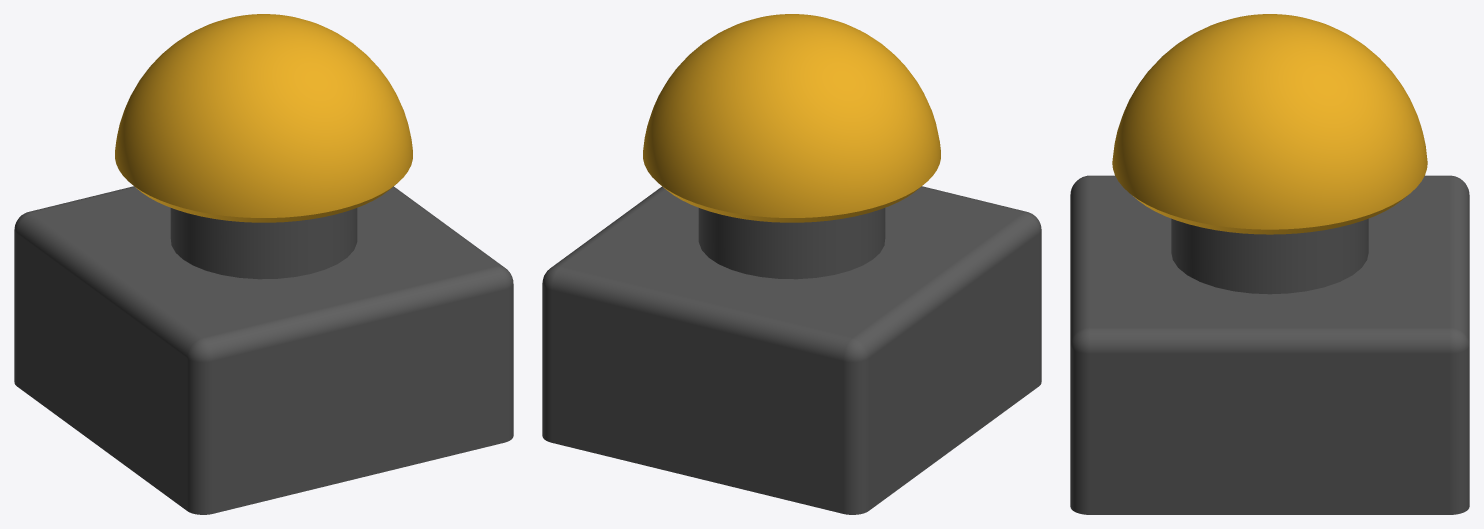
File: Button4Unreal.fbx
The picture shows the model from 3 angles, left to right: view 1: azimuth 30°, elevation 25°; view 2: azimuth 150°, elevation 25°; view 3: azimuth 270°, elevation 25°; orthographic projection. The views are drawn at different scales.
Visible parts, largest first — view 1: ButtonBase, Body1; view 2: ButtonBase, Body1; view 3: ButtonBase, Body1.
Boxes of the visible parts, box(x1,y1,x2,y2) form: ButtonBase: box(14, 186, 513, 514); Body1: box(115, 14, 412, 222); ButtonBase: box(542, 186, 1041, 514); Body1: box(643, 14, 940, 222); ButtonBase: box(1070, 175, 1469, 514); Body1: box(1112, 14, 1427, 234).
Bounding box in the file's own units: 20 × 22.5 × 20.21.
